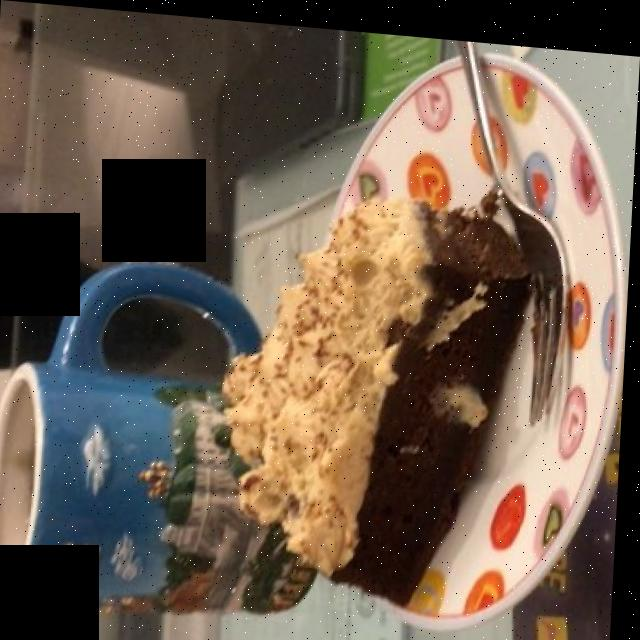cake-chocolate: (223, 186, 529, 591)
